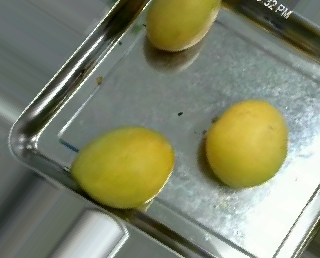Mango: (70, 127, 173, 209), (206, 99, 288, 187), (146, 0, 221, 52)
